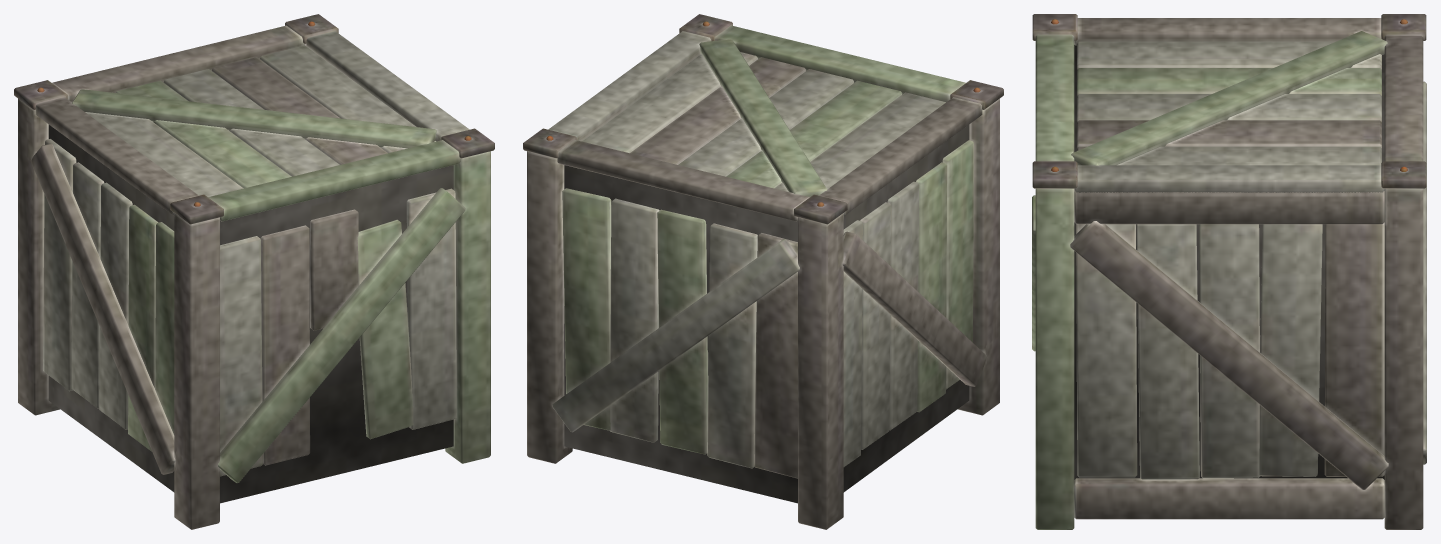
File: crate_wood.glb
3 renders of one model, left to right at view 1: azimuth 30°, elevation 25°; view 2: azimuth 150°, elevation 25°; view 3: azimuth 270°, elevation 25°, orthographic. The views are drawn at different scales.
Parts seen in each view (by area): view 1: crate_wood; view 2: crate_wood; view 3: crate_wood.
Part boxes in pixels (box(x1,y1,x2,y2)): crate_wood: box(14, 14, 494, 529); crate_wood: box(523, 14, 1003, 529); crate_wood: box(1032, 14, 1426, 529).
Size of the model in its own units: 0.764 by 0.7595 by 0.764.
1 material, 1 textured.
